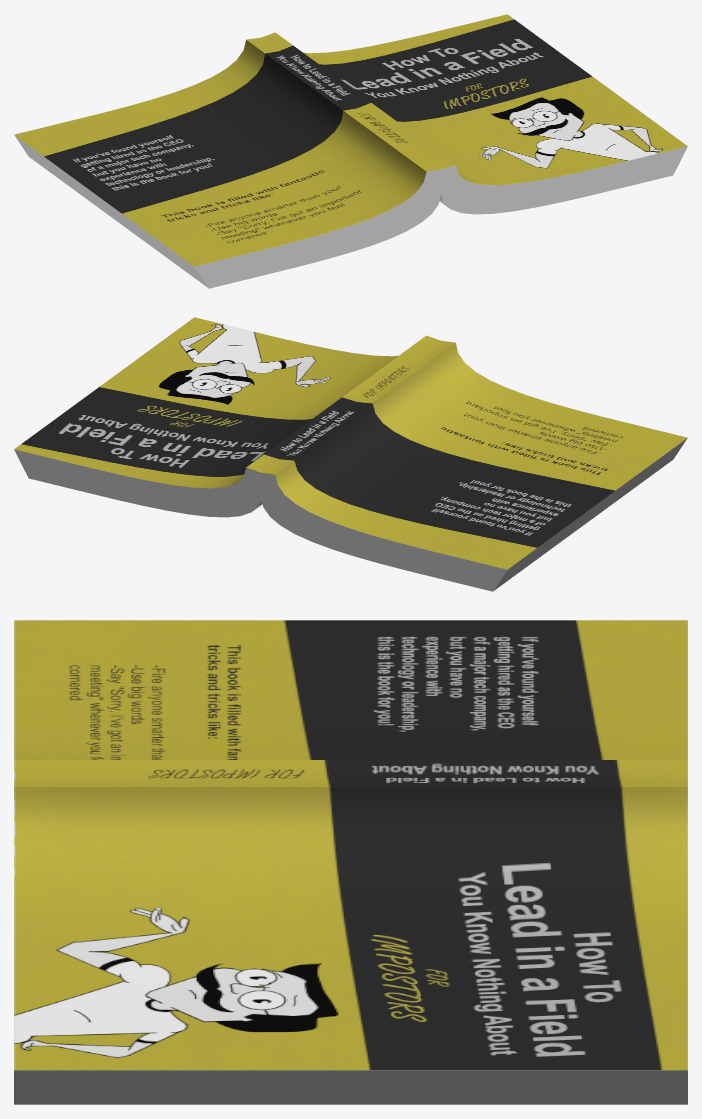
Rendered from HowToBook_Tris.fbx.
3 views of the same model, one above another, from view 1: azimuth 30°, elevation 25°; view 2: azimuth 150°, elevation 25°; view 3: azimuth 270°, elevation 25° (orthographic). The views are drawn at different scales.
Parts seen in each view (by area): view 1: HowToBook; view 2: HowToBook; view 3: HowToBook.
Part boxes in pixels (x1,y1,x2,y2): HowToBook: [14, 14, 687, 288]; HowToBook: [14, 317, 687, 591]; HowToBook: [14, 620, 687, 1104].
Size of the model in its own units: 128 by 15.89 by 81.2.
